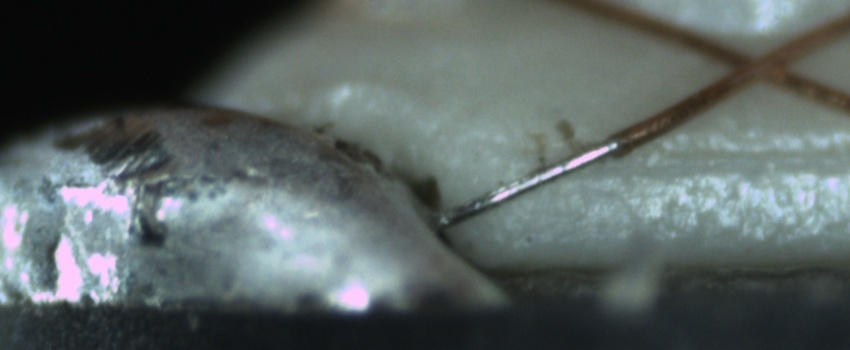CL: (711, 30, 806, 93)
DL: (572, 135, 850, 199)
TS: (436, 139, 622, 230)
TTCW: (444, 112, 666, 227)
